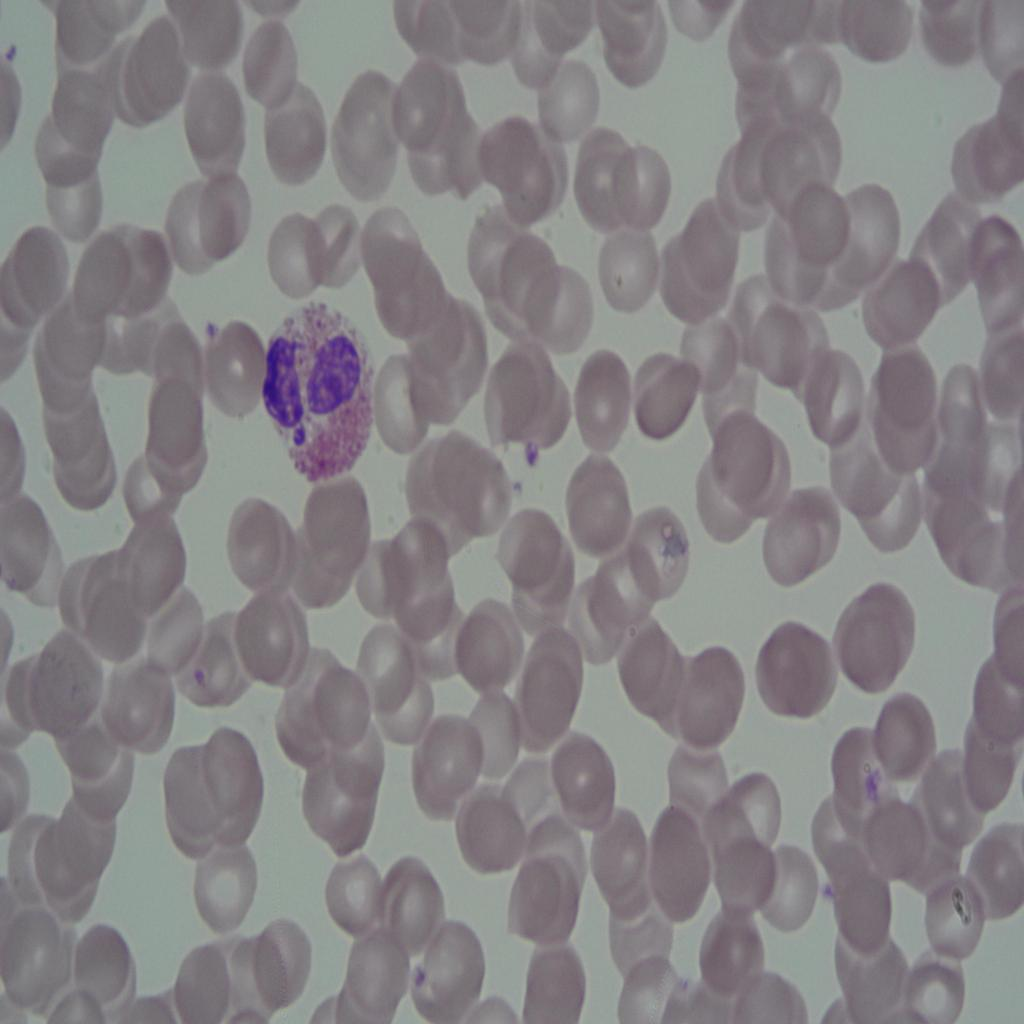Eosinofil: (254, 297, 382, 491)
Platelet: (516, 430, 548, 476), (197, 312, 230, 352), (822, 875, 844, 913), (858, 755, 878, 785)
